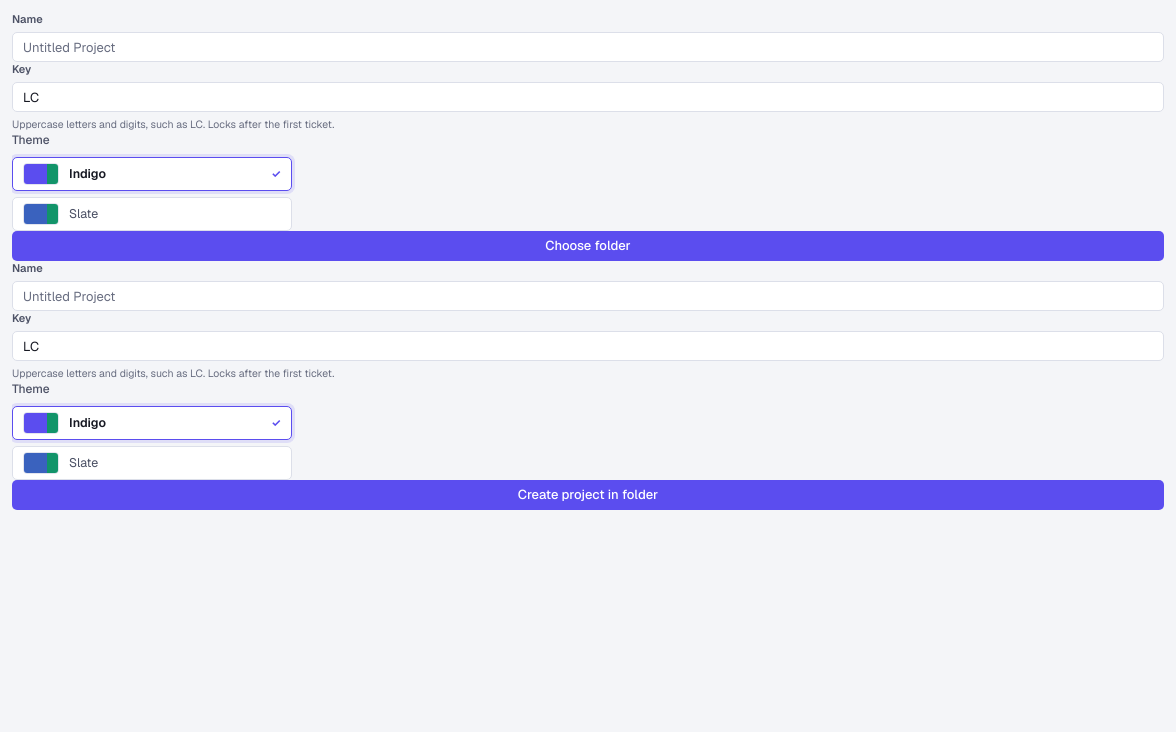
it: two create forms on screen at once › explains each form's key in that form
Replace the text in the 2nd field labelled "Key" with "3J4" at x=588, y=346, box [12,331,1164,361]
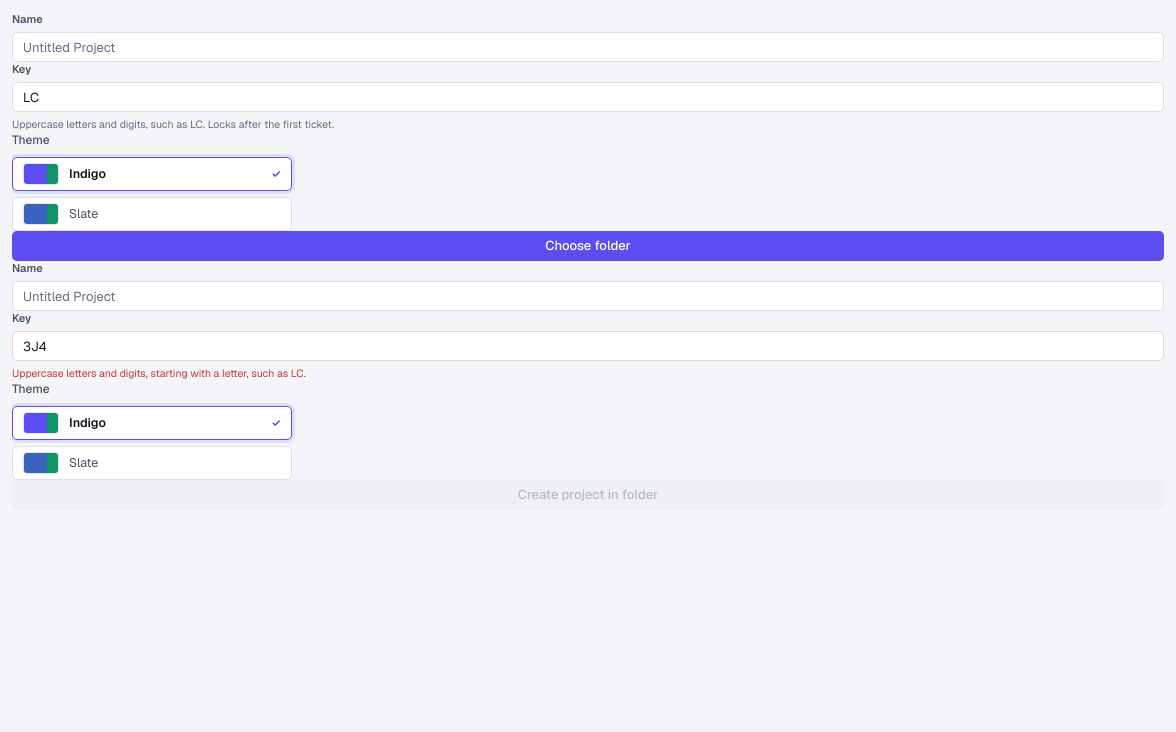
Expected: the number of messages is 1, [12,366,306,380]
